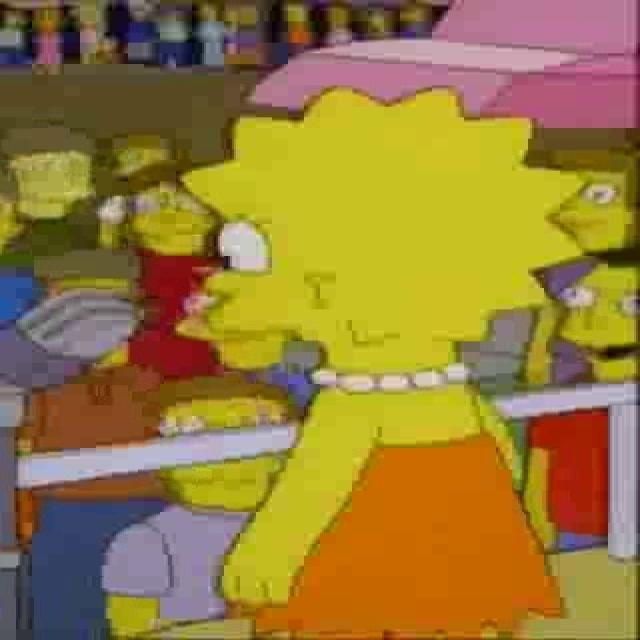Lisa Simpson: (176, 84, 592, 396)
